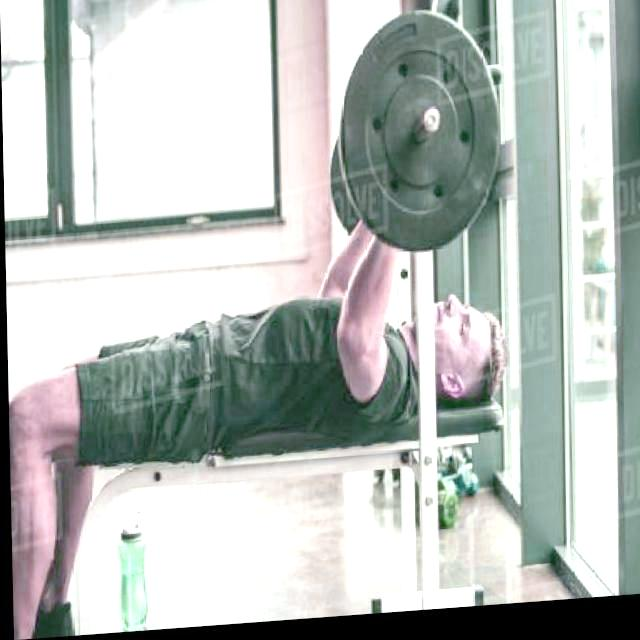barbell: (335, 8, 507, 266)
